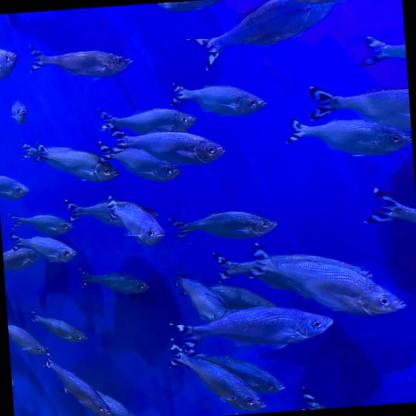fish: (210, 229, 408, 327), (184, 0, 332, 73), (158, 301, 341, 356), (161, 328, 274, 416), (169, 324, 287, 408), (36, 342, 147, 416), (303, 78, 411, 144), (281, 109, 413, 163), (61, 190, 163, 255), (106, 120, 228, 174), (24, 36, 135, 82), (95, 133, 186, 189), (32, 136, 123, 191), (166, 74, 269, 122), (169, 204, 279, 247), (94, 101, 202, 143), (72, 260, 157, 308), (362, 184, 415, 253), (172, 268, 226, 325), (294, 381, 396, 410), (27, 302, 85, 350), (7, 226, 83, 262), (356, 30, 406, 79), (5, 206, 75, 239), (8, 314, 49, 363), (18, 136, 80, 167), (152, 0, 254, 15), (264, 0, 402, 11), (2, 245, 38, 270), (0, 171, 29, 202), (0, 44, 21, 86), (5, 98, 30, 128)
